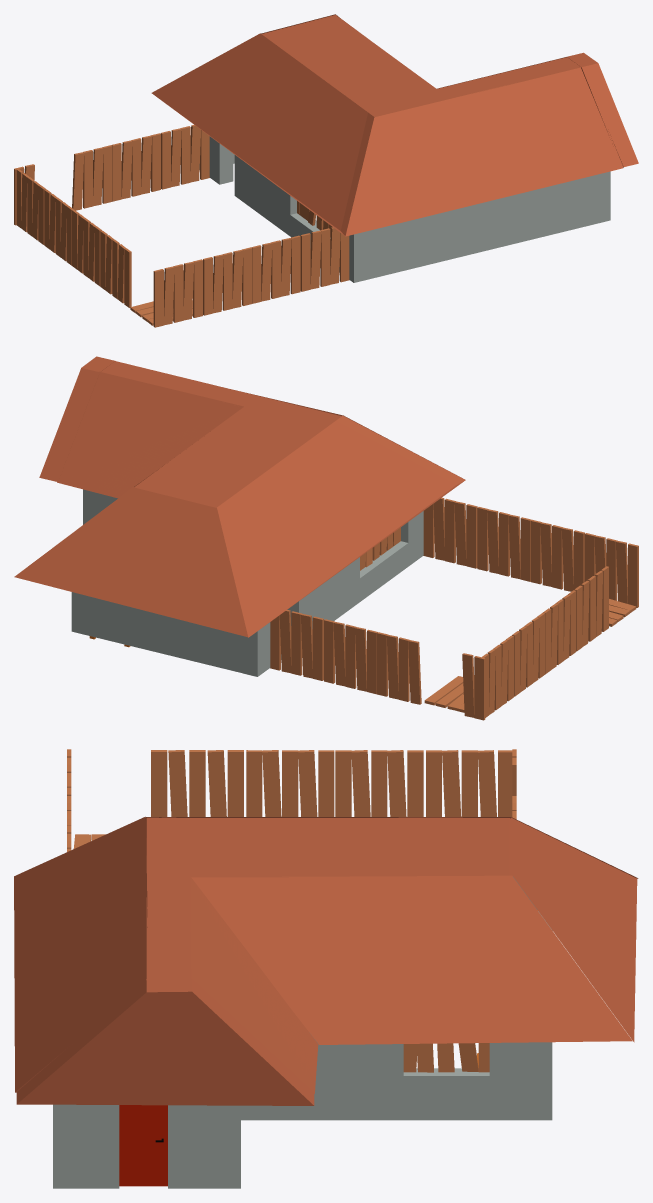
Rendered from house.glb.
The picture shows the model from 3 angles, top to bottom: view 1: azimuth 30°, elevation 25°; view 2: azimuth 150°, elevation 25°; view 3: azimuth 270°, elevation 25°; orthographic projection. The views are drawn at different scales.
Visible parts, largest first — view 1: Plane.004, Plane.002, Cube, Plane.001, Cube.075, Cube.037, Cube.047, Cube.029, Cube.032, Cube.019, Cube.045, Cube.049 (+28 smaller); view 2: Plane.002, Plane.005, Cube, Plane.006, Plane.001, Cube.075, Cube.026, Cube.016, Cube.047, Cube.029, Cube.048, Cube.032 (+29 smaller); view 3: Plane.003, Cube, Plane.001, Plane.004, Cube.075, Plane.005, Plane.006, Door, Cube.052, Cube.055, Cube.056, Cube.057 (+16 smaller).
Part boxes in pixels (left/top/right/bottom): Plane.004: left=345, top=67, right=622, bottom=236; Plane.002: left=151, top=33, right=374, bottom=236; Cube: left=199, top=136, right=610, bottom=282; Plane.001: left=262, top=15, right=580, bottom=116; Cube.075: left=567, top=52, right=638, bottom=167; Cube.037: left=153, top=269, right=163, bottom=327; Cube.047: left=300, top=233, right=310, bottom=291; Cube.029: left=72, top=152, right=84, bottom=210; Cube.032: left=242, top=247, right=252, bottom=305; Cube.019: left=121, top=140, right=132, bottom=199; Cube.045: left=271, top=240, right=281, bottom=298; Cube.049: left=310, top=230, right=321, bottom=289; Plane.002: left=217, top=416, right=465, bottom=637; Plane.005: left=14, top=487, right=247, bottom=637; Cube: left=71, top=489, right=423, bottom=676; Plane.006: left=57, top=371, right=243, bottom=498; Plane.001: left=101, top=361, right=341, bottom=507; Cube.075: left=39, top=356, right=114, bottom=481; Cube.026: left=474, top=656, right=485, bottom=720; Cube.016: left=312, top=616, right=323, bottom=680; Cube.047: left=466, top=504, right=477, bottom=568; Cube.029: left=408, top=640, right=421, bottom=704; Cube.048: left=444, top=498, right=455, bottom=563; Cube.032: left=530, top=519, right=541, bottom=584; Plane.003: left=191, top=875, right=632, bottom=1044; Cube: left=53, top=877, right=552, bottom=1188; Plane.001: left=146, top=817, right=512, bottom=978; Plane.004: left=14, top=816, right=147, bottom=1091; Cube.075: left=16, top=978, right=314, bottom=1105; Plane.005: left=511, top=817, right=637, bottom=1042; Plane.006: left=190, top=876, right=318, bottom=1093; Door: left=119, top=1105, right=167, bottom=1186; Cube.052: left=151, top=750, right=167, bottom=816; Cube.055: left=189, top=750, right=205, bottom=816; Cube.056: left=227, top=750, right=243, bottom=816; Cube.057: left=318, top=750, right=334, bottom=816.
Size of the model in its own units: 2.19 by 0.6205 by 1.59.
